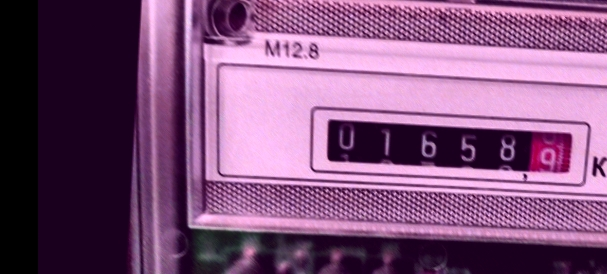0: (335, 116, 358, 149)
1: (379, 123, 394, 154)
5: (459, 128, 480, 161)
6: (419, 125, 441, 157)
8: (498, 128, 519, 161)
9: (538, 143, 557, 170)
screen: (301, 95, 596, 190)
